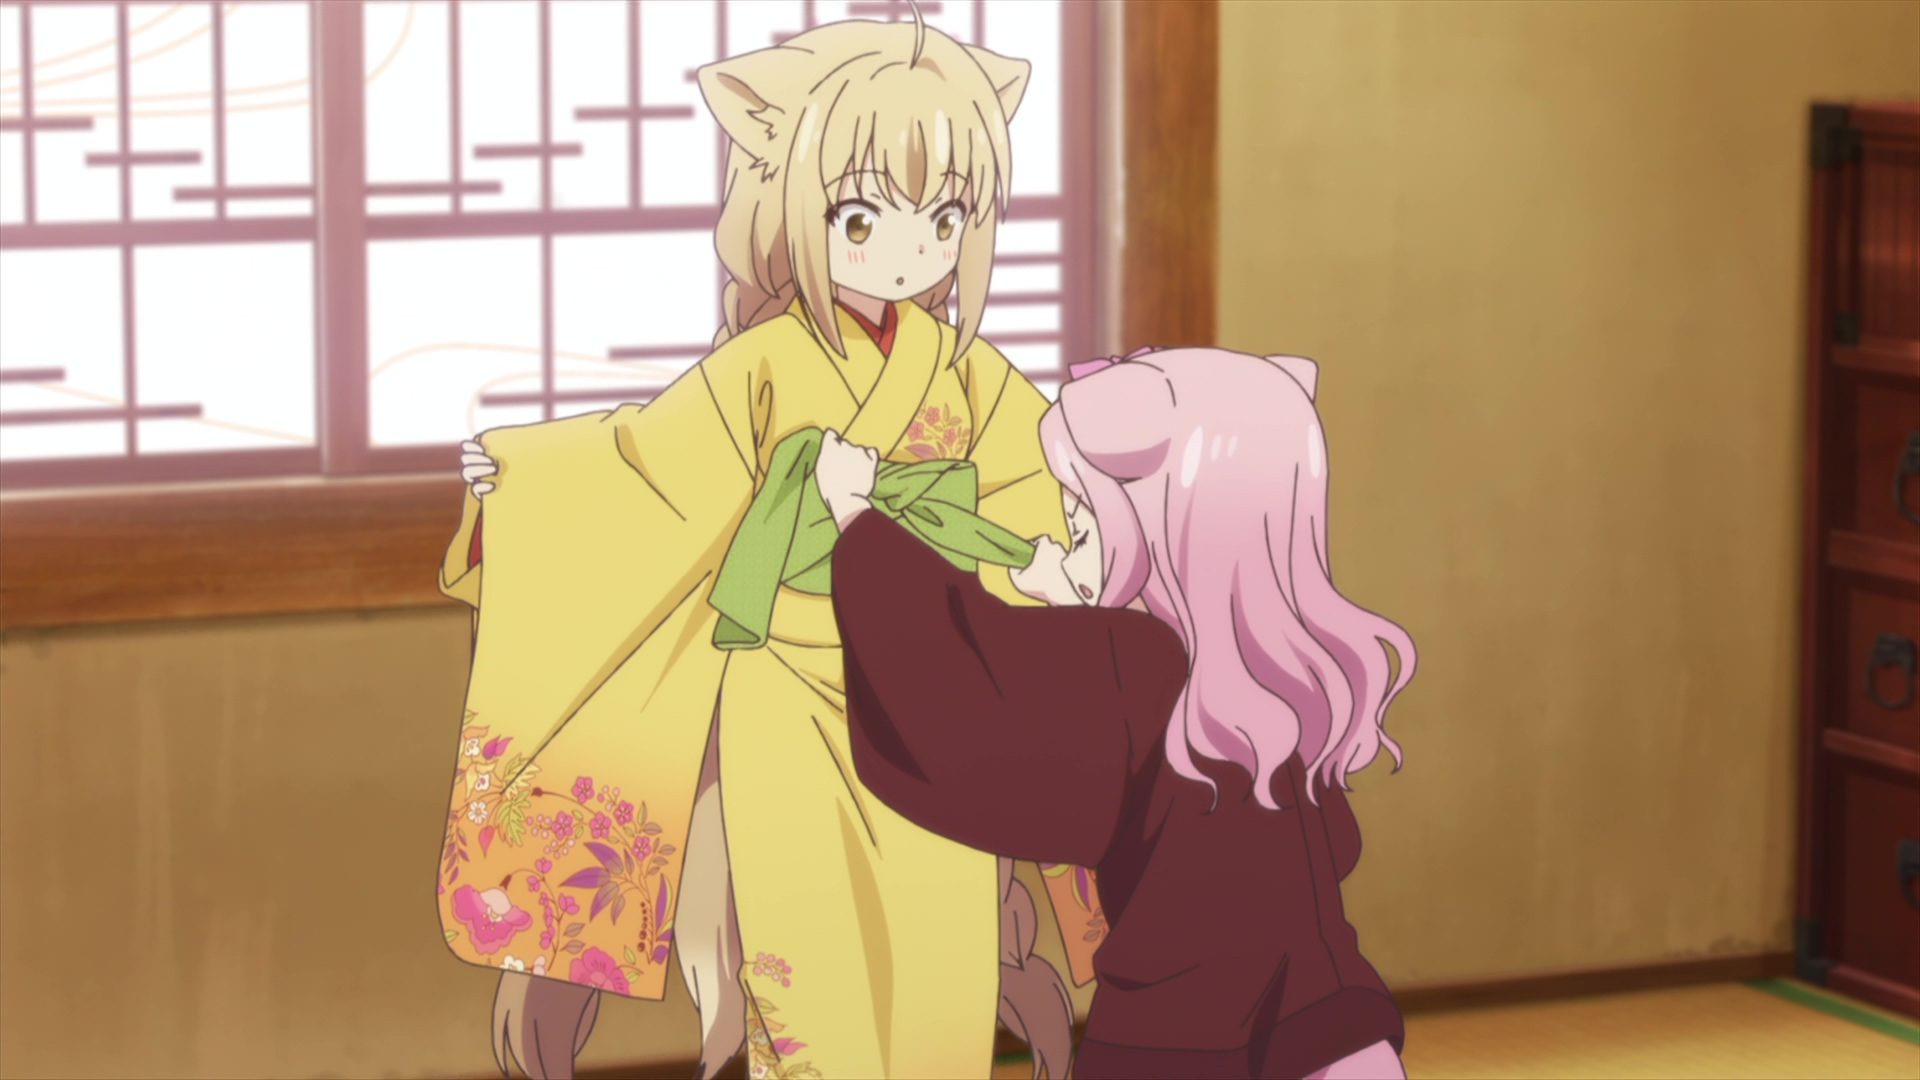柚: (440, 1, 1106, 1080)
莲: (815, 349, 1419, 1080)
